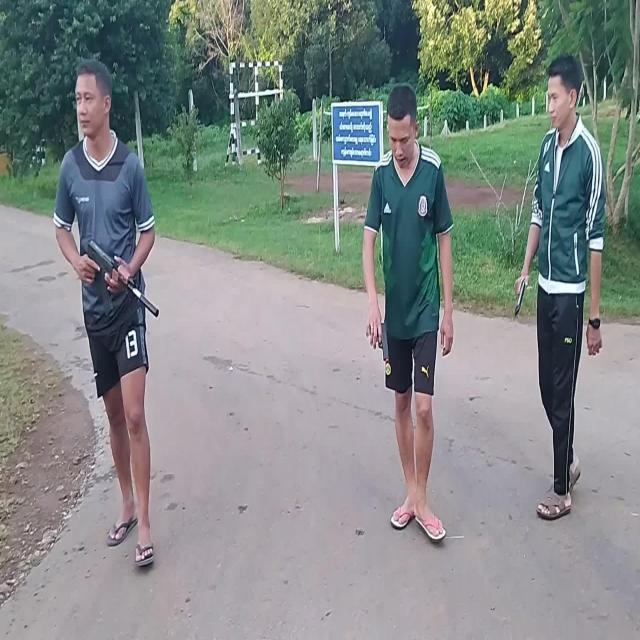gun: (87, 240, 159, 318), (369, 322, 389, 362)
